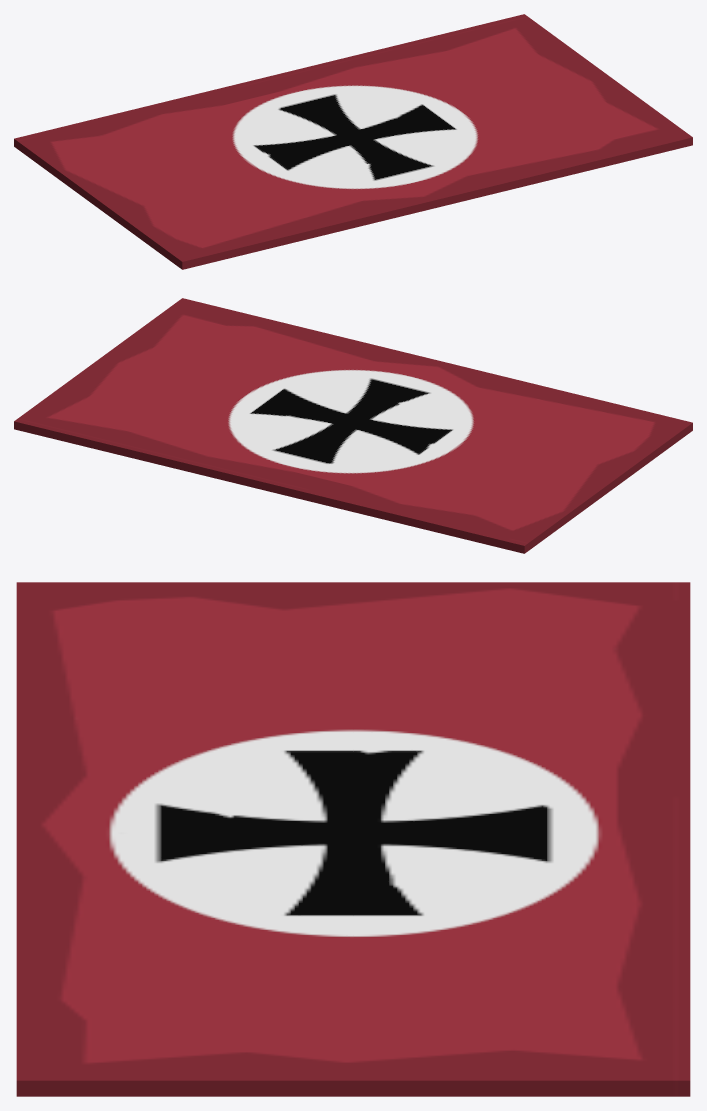
The model's file is SM_Env_Flag_Straight_Germany_01.fbx.
3 views of the same model, one above another, from view 1: azimuth 30°, elevation 25°; view 2: azimuth 150°, elevation 25°; view 3: azimuth 270°, elevation 25° (orthographic). The views are drawn at different scales.
Parts seen in each view (by area): view 1: SM_Env_Flag_Straight_Germany_01; view 2: SM_Env_Flag_Straight_Germany_01; view 3: SM_Env_Flag_Straight_Germany_01.
Part boxes in pixels (box(x1,y1,x2,y2)): SM_Env_Flag_Straight_Germany_01: box(14, 14, 692, 269); SM_Env_Flag_Straight_Germany_01: box(14, 298, 692, 553); SM_Env_Flag_Straight_Germany_01: box(16, 582, 690, 1096).
Size of the model in its own units: 0.015 by 0.000224 by 0.00859.
